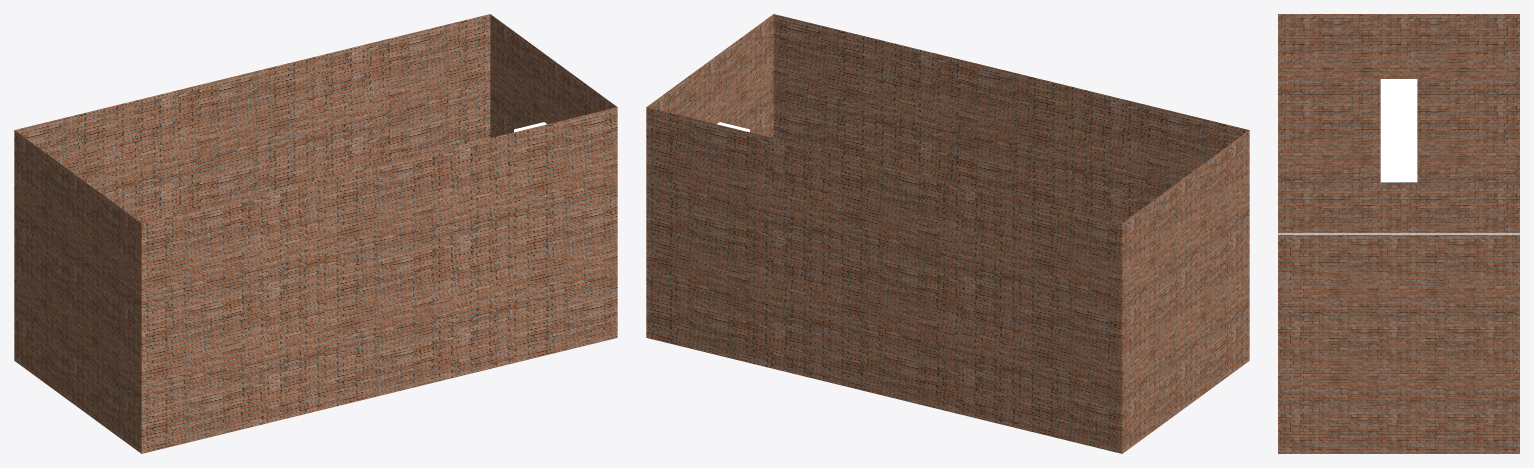
Rendered from House.glb.
The picture shows the model from 3 angles, left to right: view 1: azimuth 30°, elevation 25°; view 2: azimuth 150°, elevation 25°; view 3: azimuth 270°, elevation 25°; orthographic projection. The views are drawn at different scales.
Visible parts, largest first — view 1: Cube; view 2: Cube; view 3: Cube.
Part boxes in pixels (<box>): Cube: <box>14,14,617,453</box>; Cube: <box>646,14,1249,453</box>; Cube: <box>1278,14,1519,453</box>.
Bounding box in the file's own units: 43.18 × 20 × 20.
Materials: 4 (1 with a texture image).
